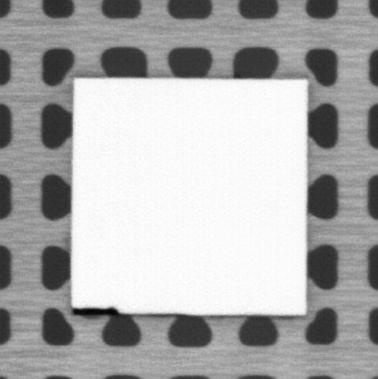DIE_BROKEN: (69, 305, 121, 316)
